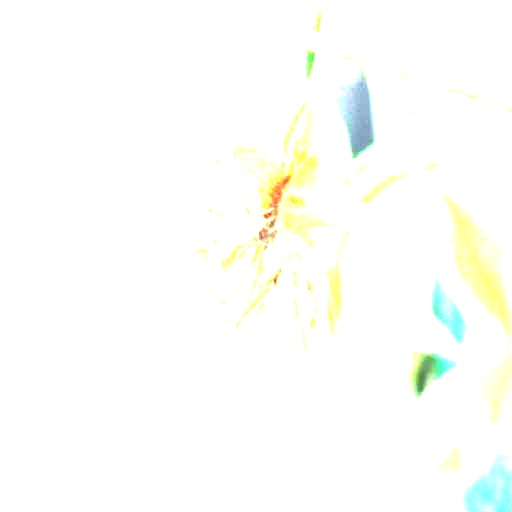Gray Mold: (215, 165, 331, 430)
